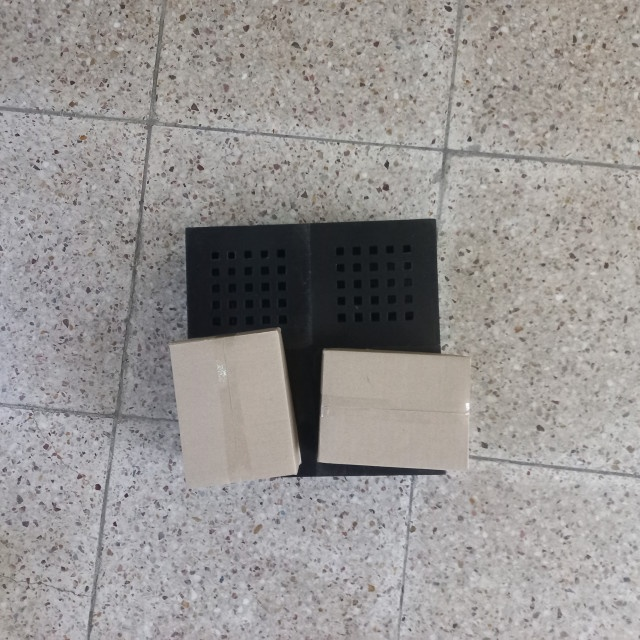box: (166, 323, 302, 495), (312, 344, 477, 477)
